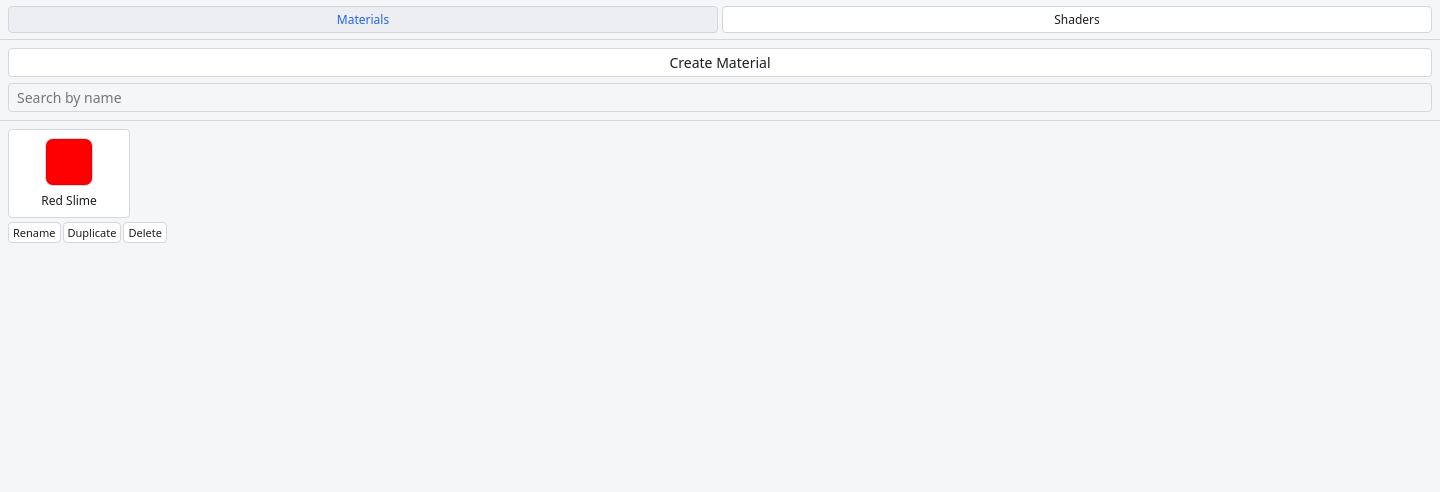
Test: MaterialsPanel › deletes a material from the cell and removes it from the grid
This screenshot has width=1440, height=492.
Check: the text "Red Slime" is shown, box 41,192 -> 97,209
Step 1. Click the button with aria-label "Delete Red Slime" → {"x": 145, "y": 232}, box 123,222 -> 167,243
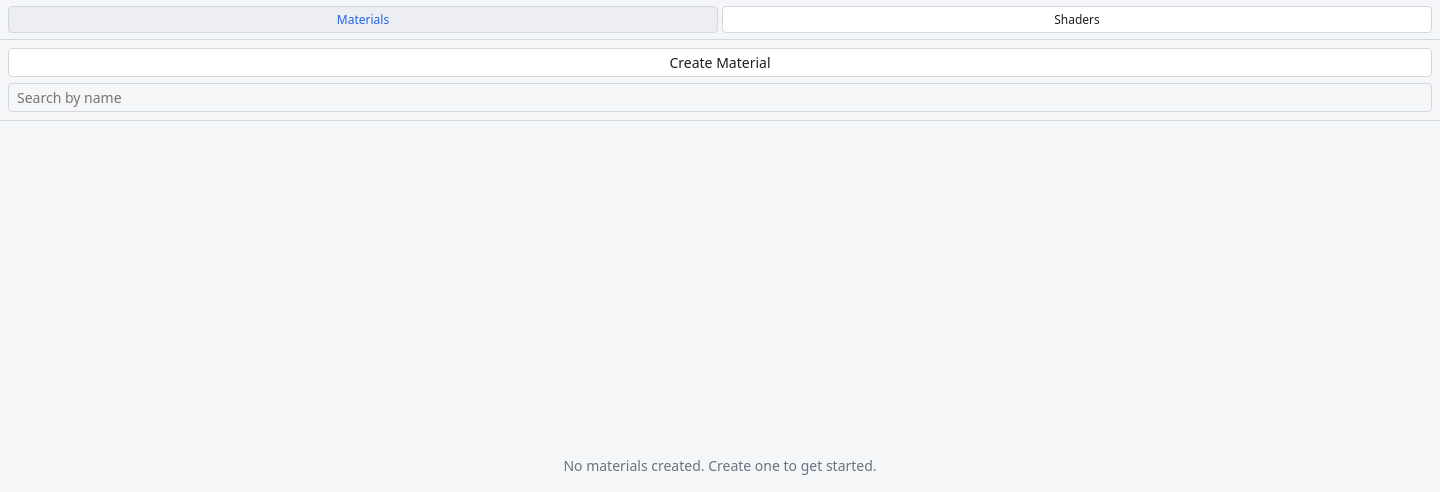
Check: the button "Red Slime" is gone
